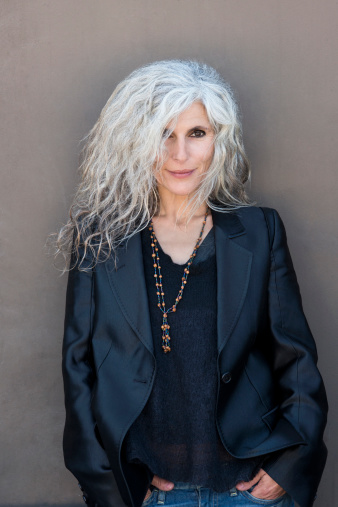em pe: (44, 54, 312, 507)
